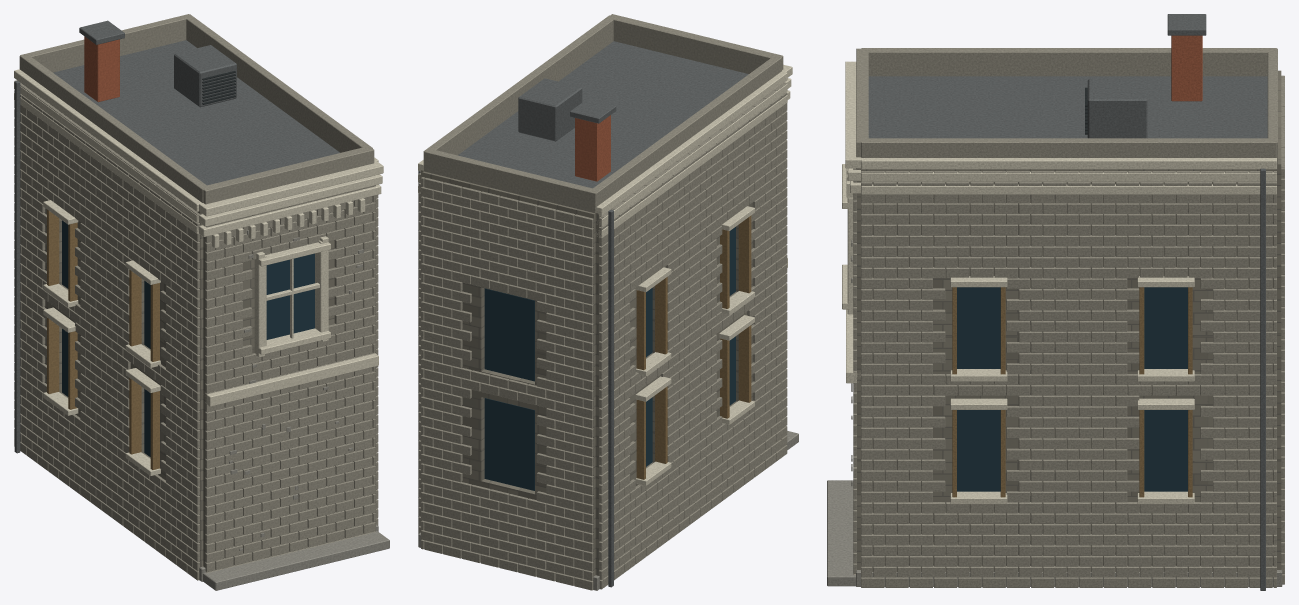
The model's file is WRHS7_lod0.glb.
3 renders of one model, left to right at view 1: azimuth 30°, elevation 25°; view 2: azimuth 150°, elevation 25°; view 3: azimuth 270°, elevation 25°, orthographic. The views are drawn at different scales.
Parts seen in each view (by area): view 1: WRHS7_LOD0; view 2: WRHS7_LOD0; view 3: WRHS7_LOD0.
Part boxes in pixels (x1,y1,x2,y2): WRHS7_LOD0: (14,14,389,590); WRHS7_LOD0: (418,14,798,590); WRHS7_LOD0: (827,14,1284,590).
Bounding box in the file's own units: 3.71 × 7.85 × 6.6.
12 materials, 10 textured.
